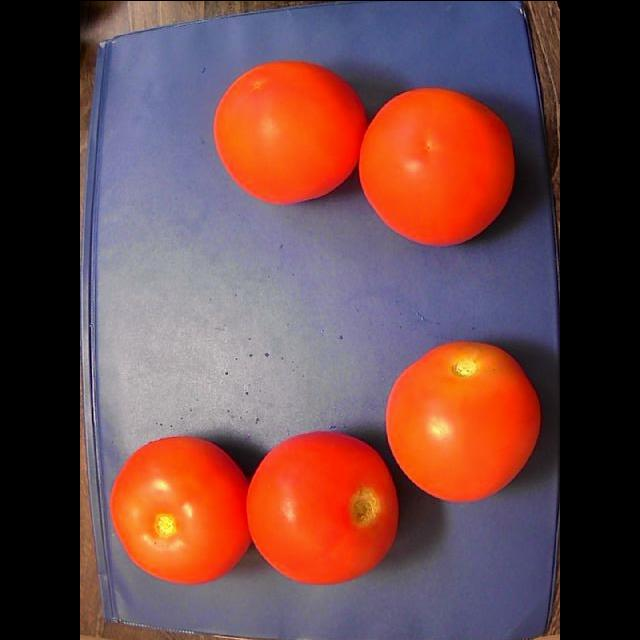tomate: (386, 341, 540, 501), (359, 87, 514, 244), (247, 431, 398, 583), (213, 60, 367, 203), (110, 436, 250, 583)
